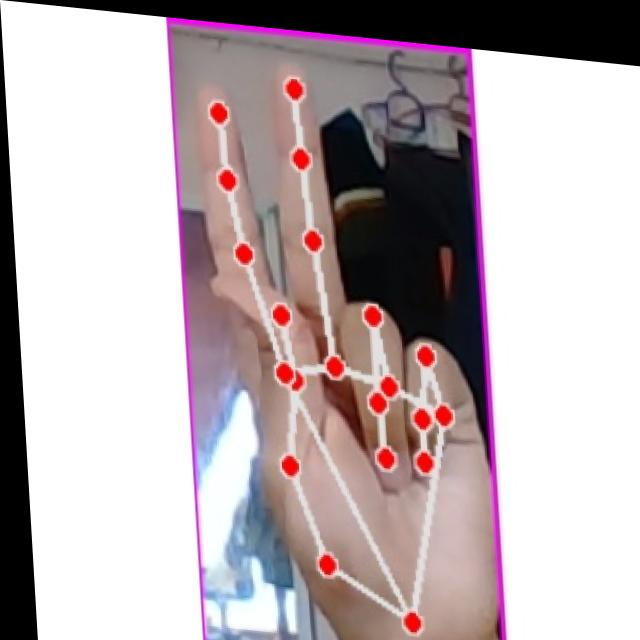K: (181, 33, 485, 640)
